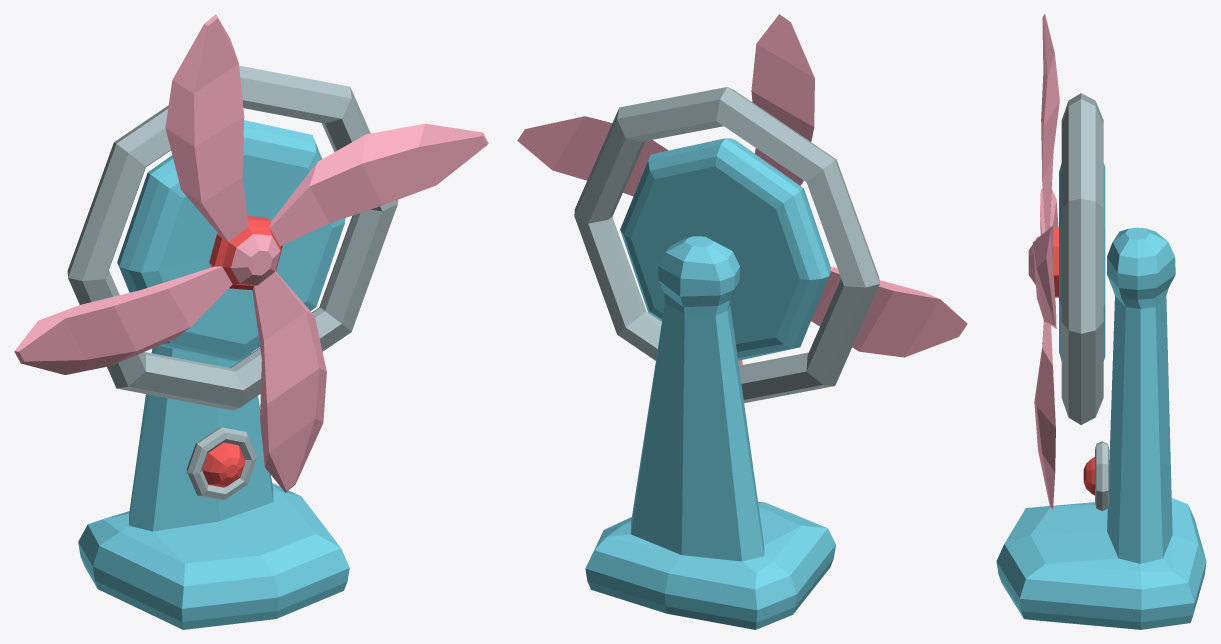
Rendered from ventilador.fbx.
3 renders of one model, left to right at view 1: azimuth 30°, elevation 25°; view 2: azimuth 150°, elevation 25°; view 3: azimuth 270°, elevation 25°, orthographic. The views are drawn at different scales.
Visible parts, largest first — view 1: Cube, Cube.001; view 2: Cube, Cube.001; view 3: Cube, Cube.001.
Boxes of the visible parts, x1,y1,x2,y2 form: Cube: [67, 65, 398, 629]; Cube.001: [14, 14, 488, 492]; Cube: [574, 87, 879, 629]; Cube.001: [517, 14, 967, 365]; Cube: [996, 93, 1206, 629]; Cube.001: [1028, 14, 1059, 509].
Size of the model in its own units: 405 by 483 by 165.
Materials: 1 (1 with a texture image).
